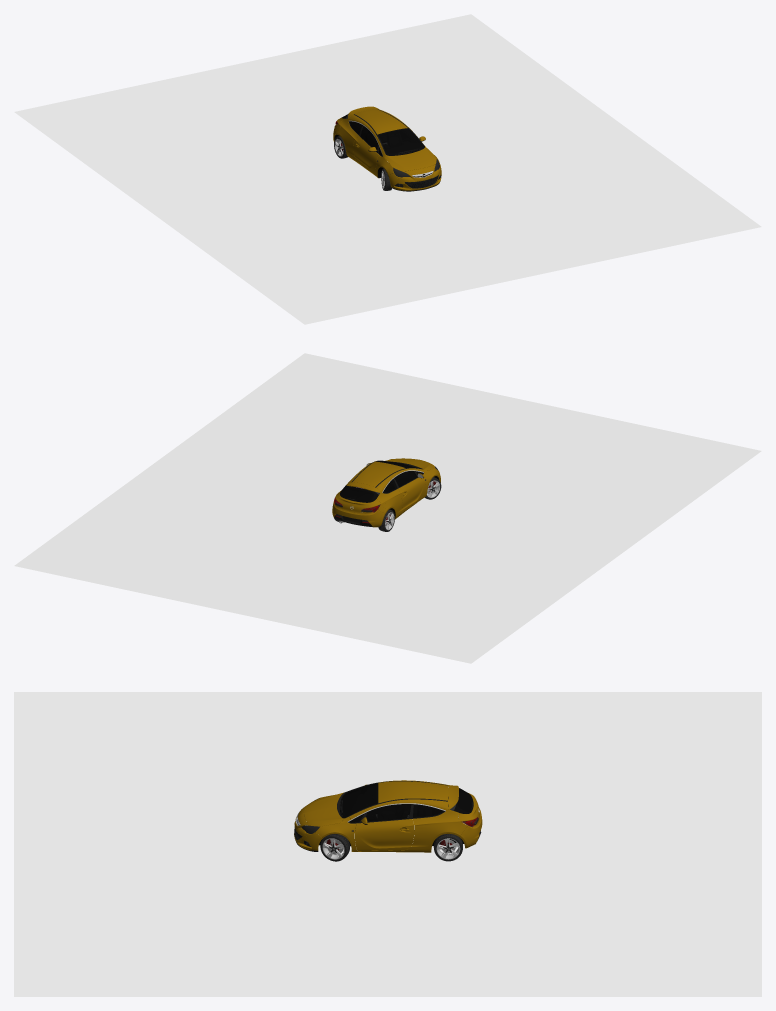
Rendered from astra.glb.
3 views of the same model, one above another, from view 1: azimuth 30°, elevation 25°; view 2: azimuth 150°, elevation 25°; view 3: azimuth 270°, elevation 25° (orthographic). The views are drawn at different scales.
Parts seen in each view (by area): view 1: base, Object_6, windshilds, plastic; view 2: base, Object_6, windshilds; view 3: base, Object_6, windshilds, plastic, Object_44, gum023.
Part boxes in pixels (x1,y1,x2,y2): base: (14,14,761,324); Object_6: (333,106,441,190); windshilds: (342,114,424,156); plastic: (348,109,441,191); base: (14,353,761,663); Object_6: (332,458,440,527); windshilds: (340,461,423,502); base: (14,692,761,996); Object_6: (294,780,482,852); windshilds: (339,783,473,822); plastic: (294,780,481,851); Object_44: (322,816,460,859); gum023: (320,834,462,861).
Size of the model in its own units: 2236 by 236 by 2463.
16 materials, 1 textured.
